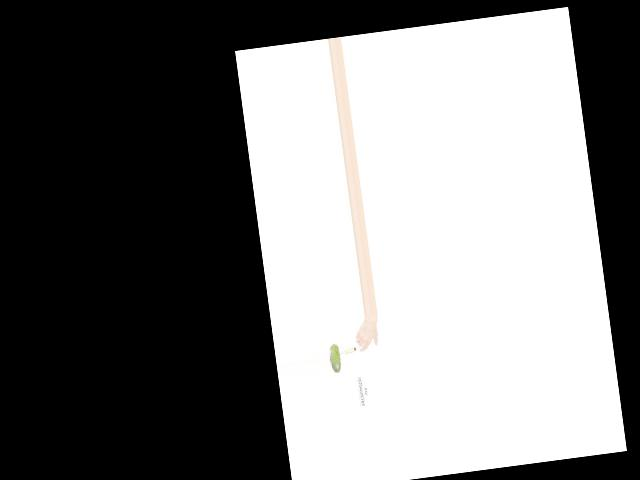cucumber: (328, 342, 342, 373)
